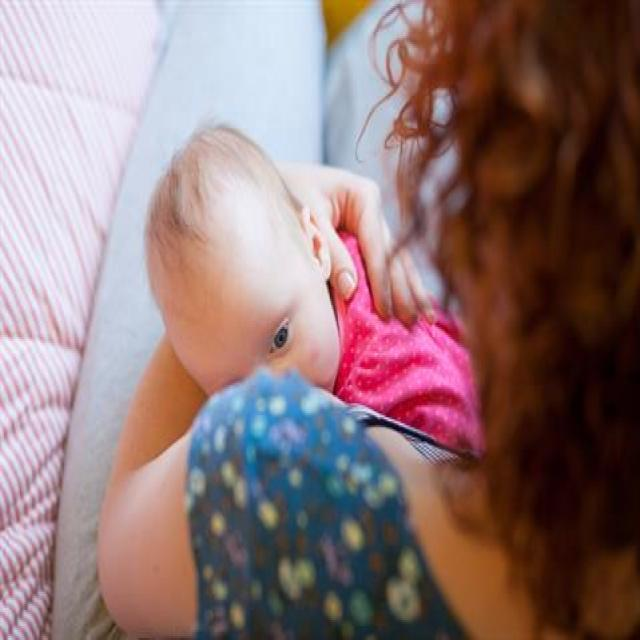non-dog: (91, 1, 640, 640), (143, 121, 489, 458)
